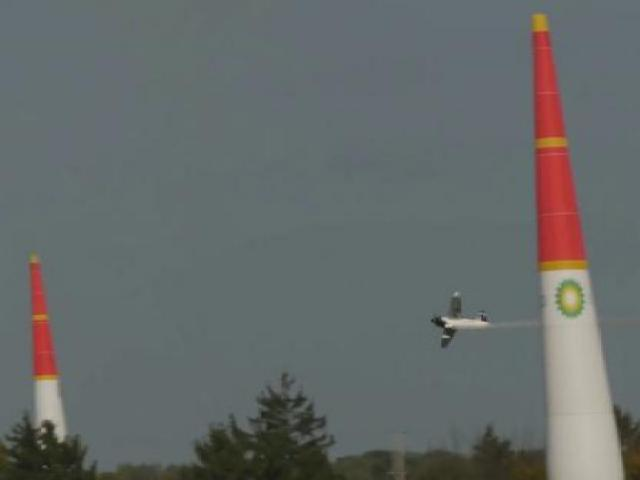uav: (426, 289, 494, 354)
